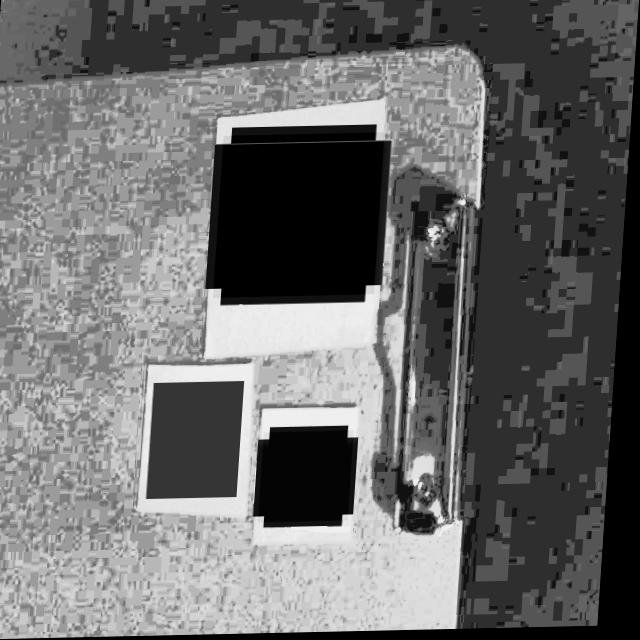qr_code: (216, 134, 386, 299), (152, 382, 250, 500), (264, 432, 359, 524)
